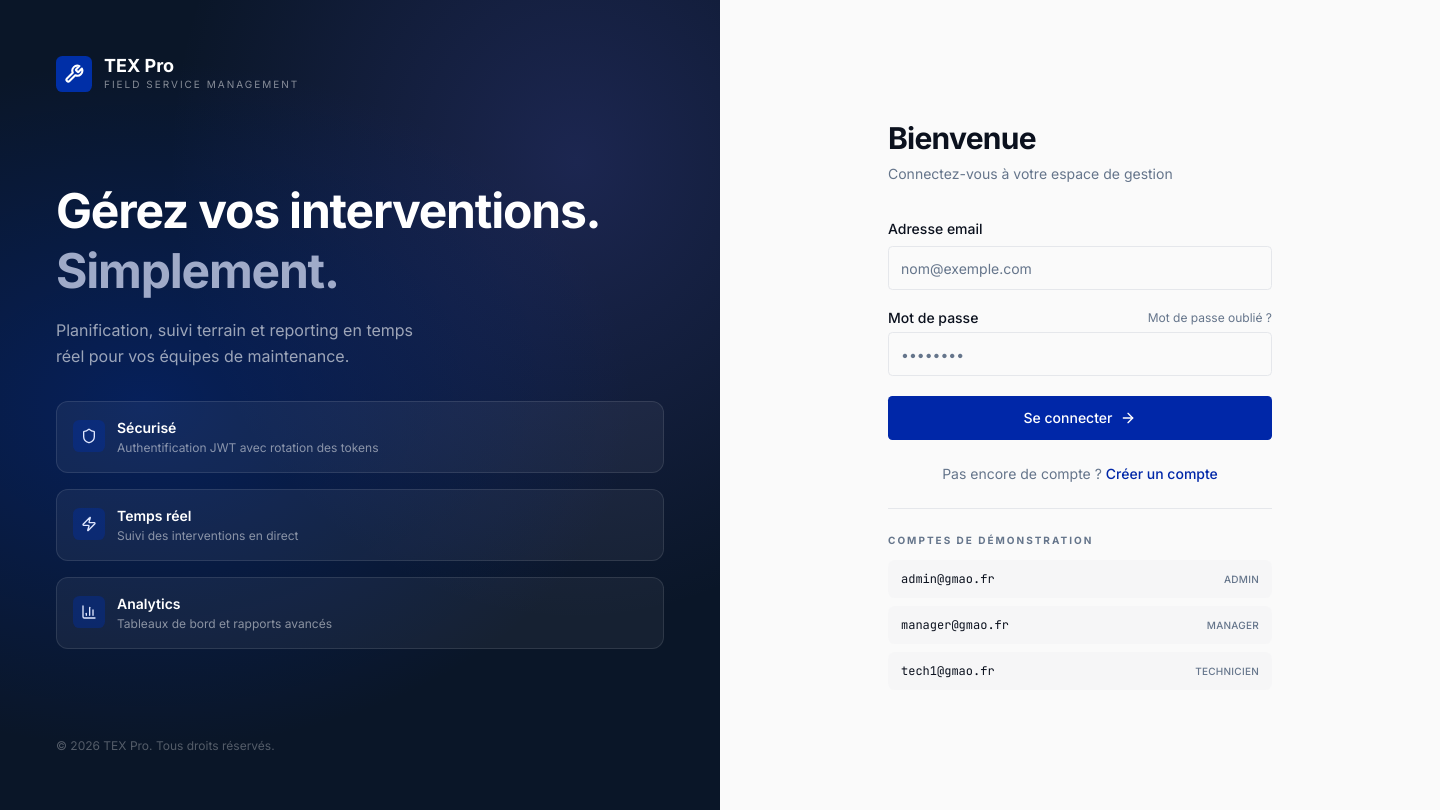
it: LoginPage › pré-remplit email et mot de passe au clic sur un compte de démo
Click the button "admin@gmao.fr Admin" at [948, 579], box [888, 560, 1272, 598]
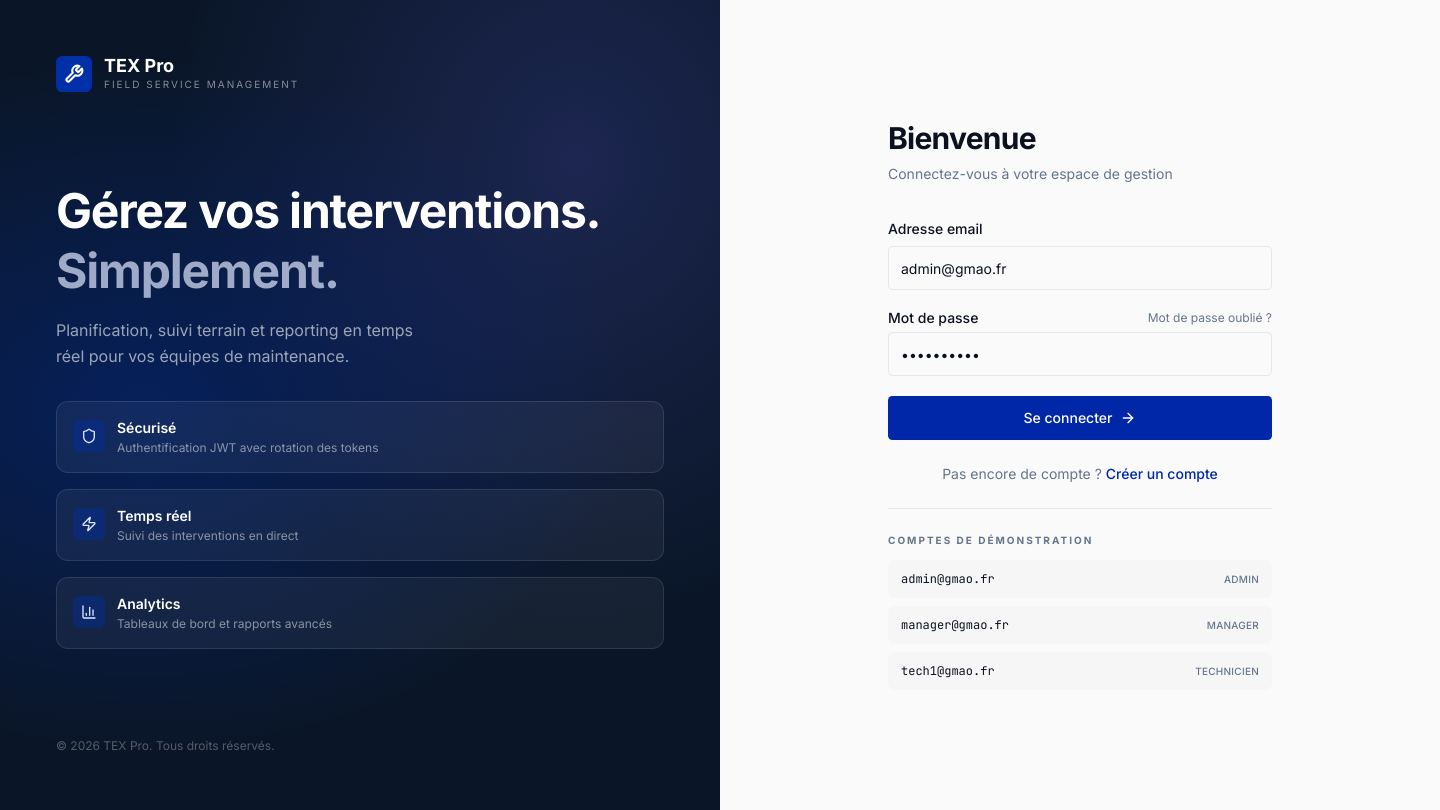
Result: the field labelled "Adresse email" holds "admin@gmao.fr" at [888, 246, 1272, 290]
Result: the password field labelled "Mot de passe" holds "Admin1234!" at [888, 332, 1272, 376]
